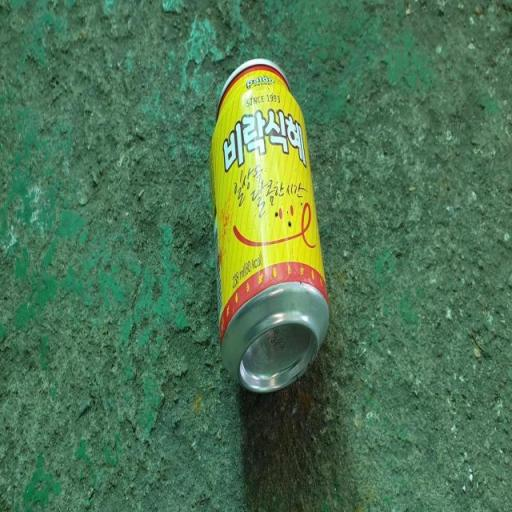metal: (192, 27, 342, 435)
